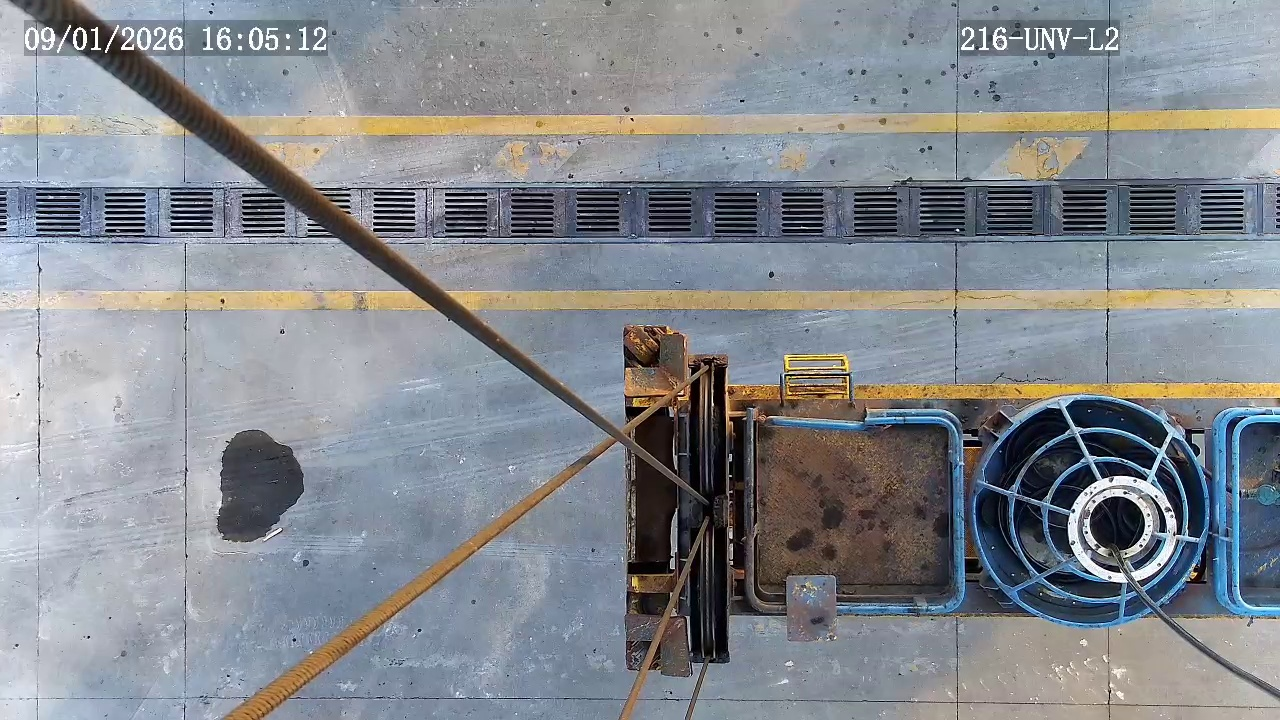left: (973, 397, 1210, 629)
